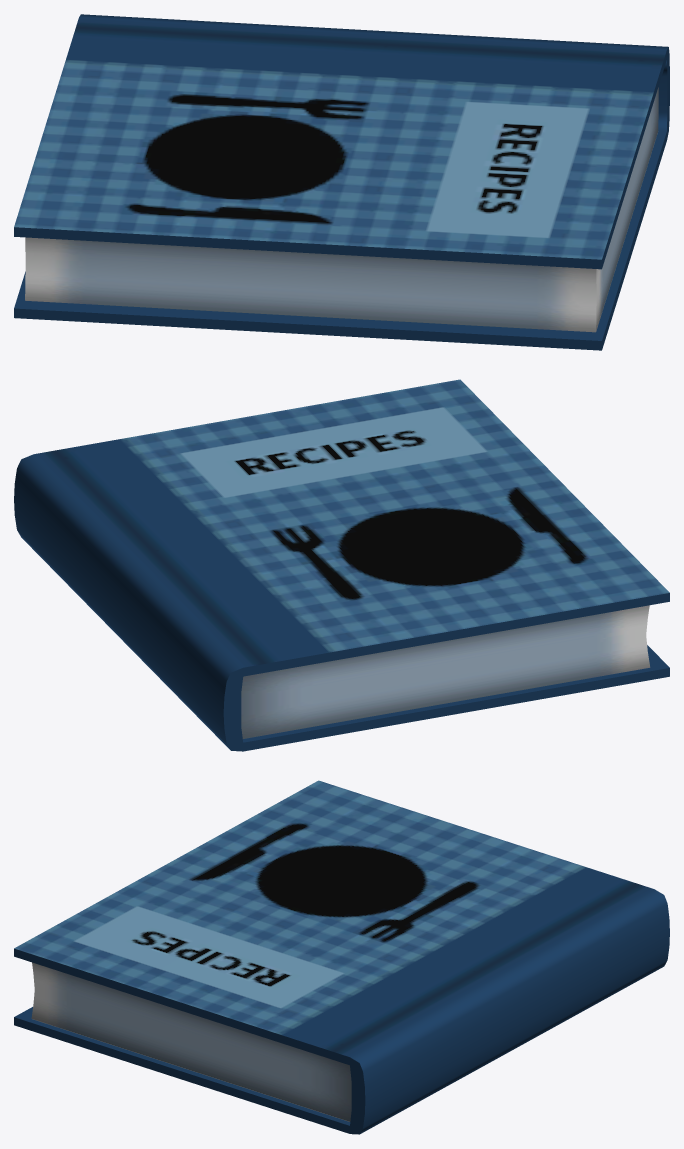
The model's file is Onion_Recipebook.fbx.
3 views of the same model, one above another, from view 1: azimuth 30°, elevation 25°; view 2: azimuth 150°, elevation 25°; view 3: azimuth 270°, elevation 25° (orthographic). The views are drawn at different scales.
Parts seen in each view (by area): view 1: Onion_Recipebook; view 2: Onion_Recipebook; view 3: Onion_Recipebook.
Boxes of the visible parts, x1,y1,x2,y2 form: Onion_Recipebook: (14,14,669,350); Onion_Recipebook: (14,379,669,751); Onion_Recipebook: (14,780,669,1134).
Bounding box in the file's own units: 1.52 × 0.1935 × 1.5.
Materials: 1 (1 with a texture image).
